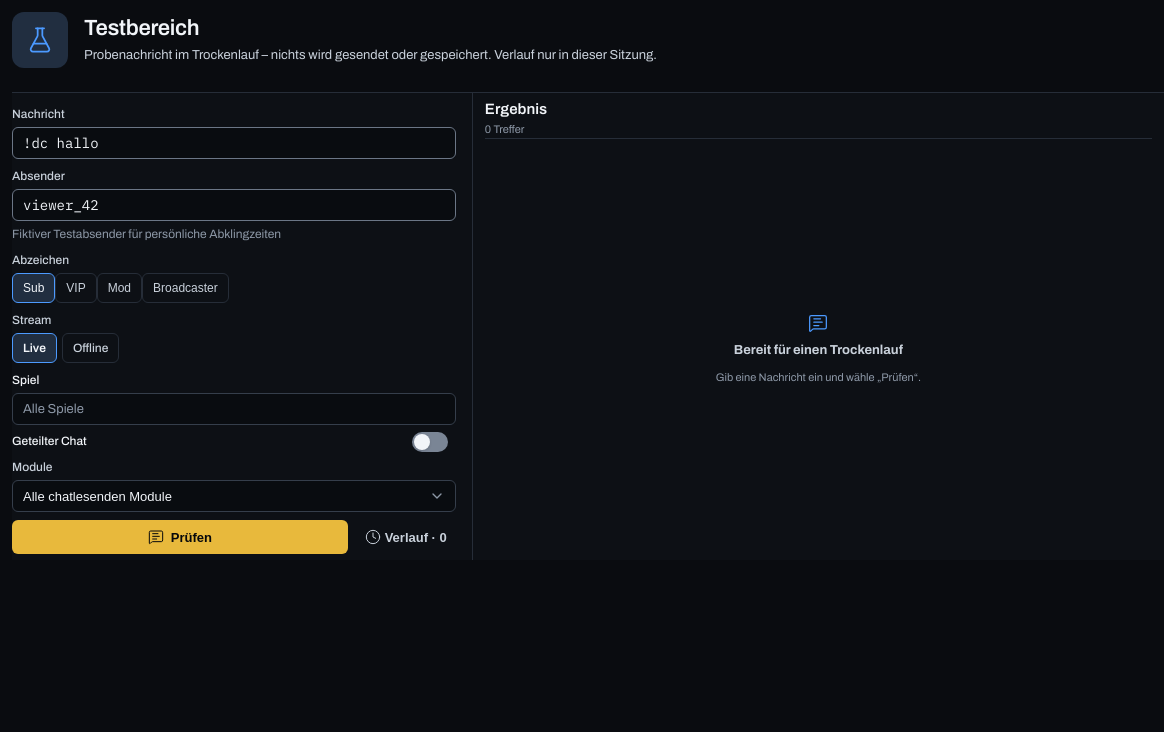
Scenario: Testbereich voting result regressions › describes a numeric free-text vote as a term
Replace the text in the field labelled "Nachricht" with "123" at (234, 143), box [12,127,456,159]
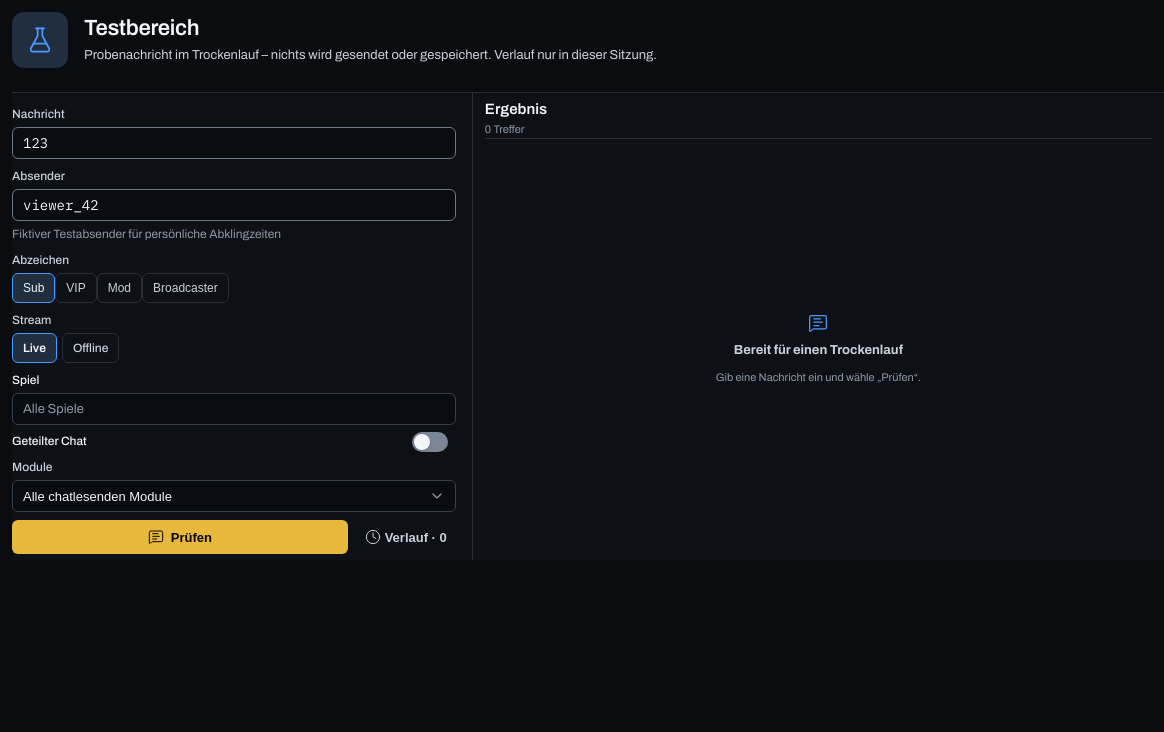
Click the button with class "test-area__run-button" at (180, 537), box [12,520,348,554]
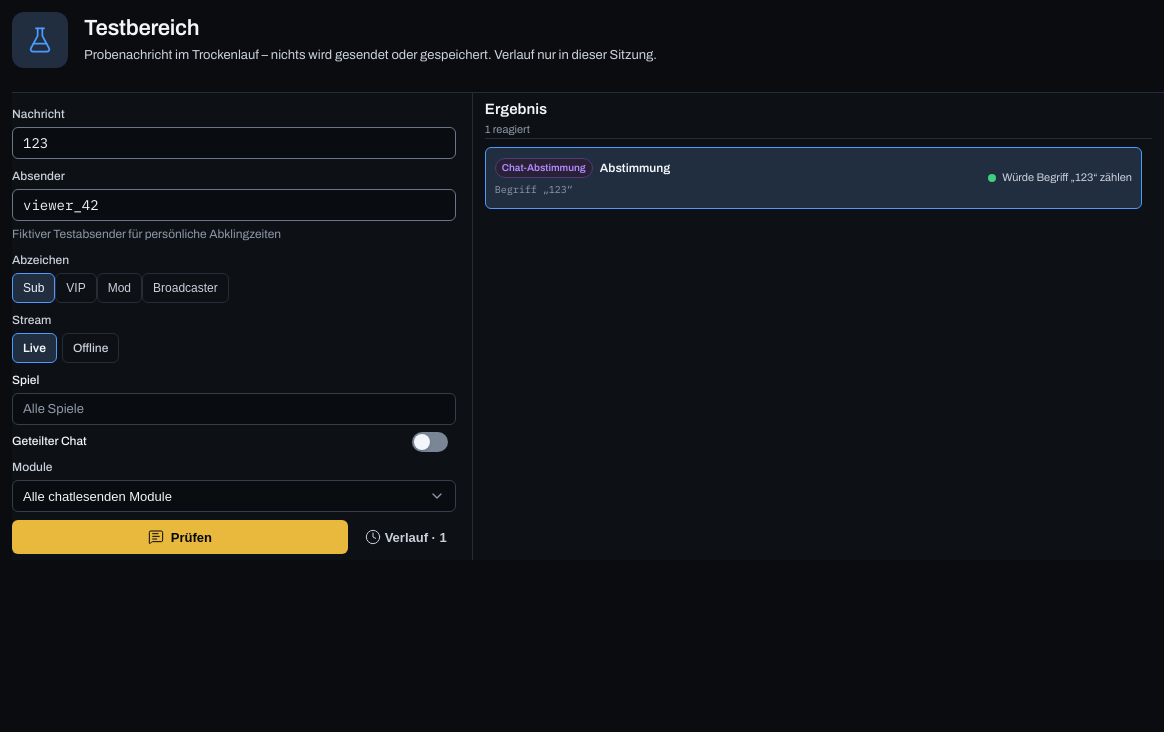
Now the button with class "test-area__result-row" is shown, box [485,146,1142,208]
Now the text "Begriff „123“" is shown, box [495,183,573,196]
